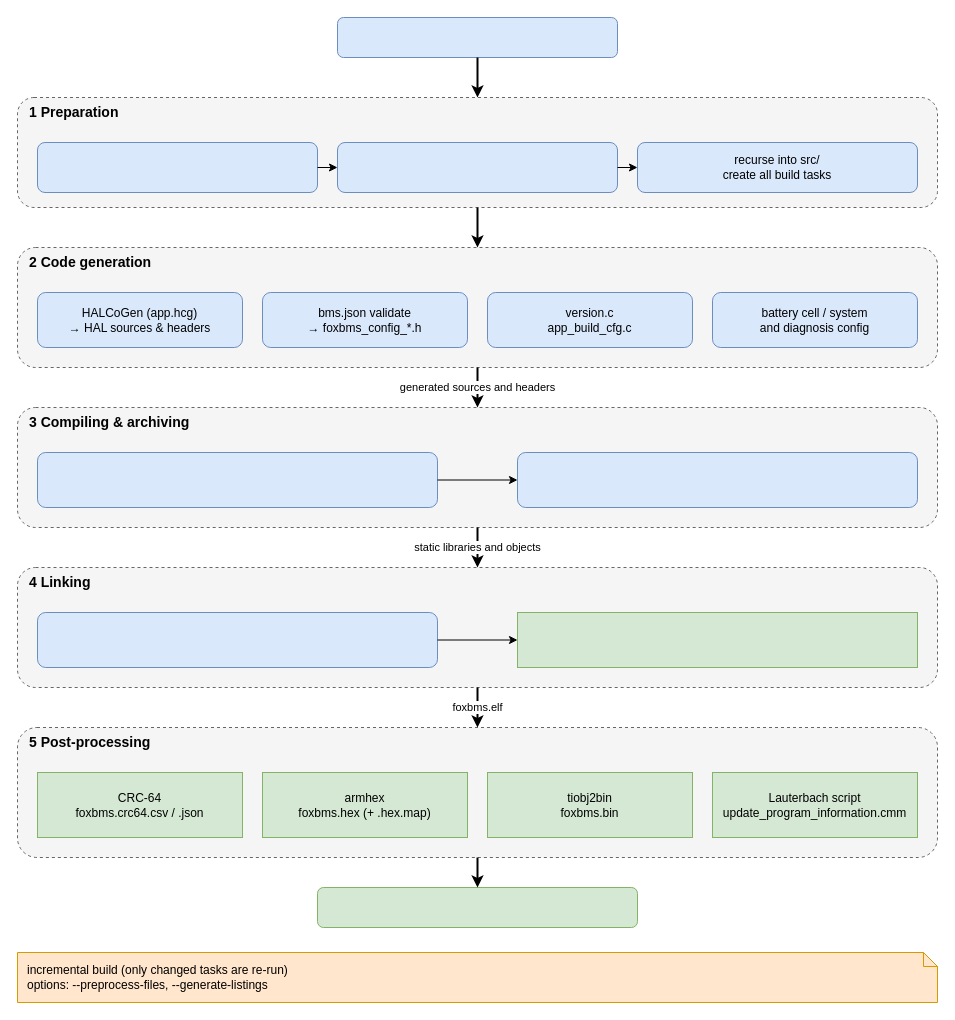
Some shapes in this 955 by 1020 pixel diagram are drawn without their labels. The shapes that lost their labels are listed below. From the top down, each one's centre as x and y in pixels, then its label:
(477,37): waf build_app_ti_arm_cgt
(177,167): select build environment "ti_arm_cgt" (from configure)
(477,167): version consistency check
(237,480): armcl / armasm *.c, *.asm → *.o
(717,480): armar → one static library per module (foxbms-hal.lib, foxbms-driver.lib, ...)
(237,640): armcl --run_linker libraries + objects + linker script
(717,640): foxbms.elf (+ foxbms.elf.map, foxbms.elf.xml)
(477,907): all artifacts in build/app_ti_arm_cgt
